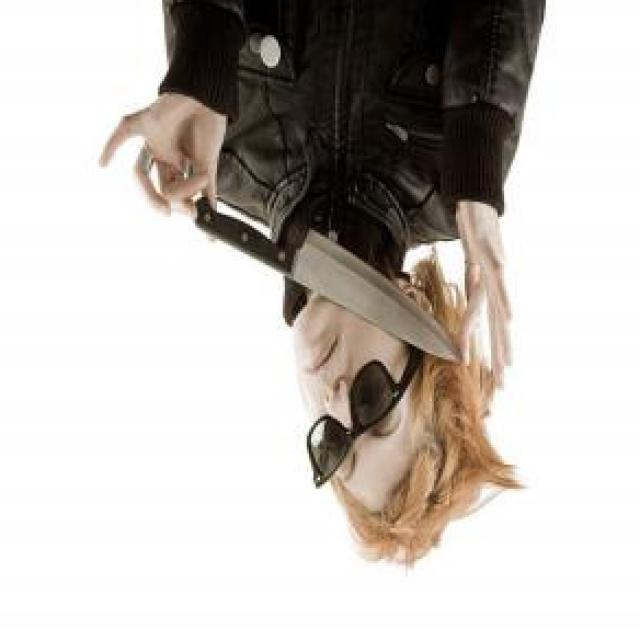knife: (195, 200, 464, 362)
